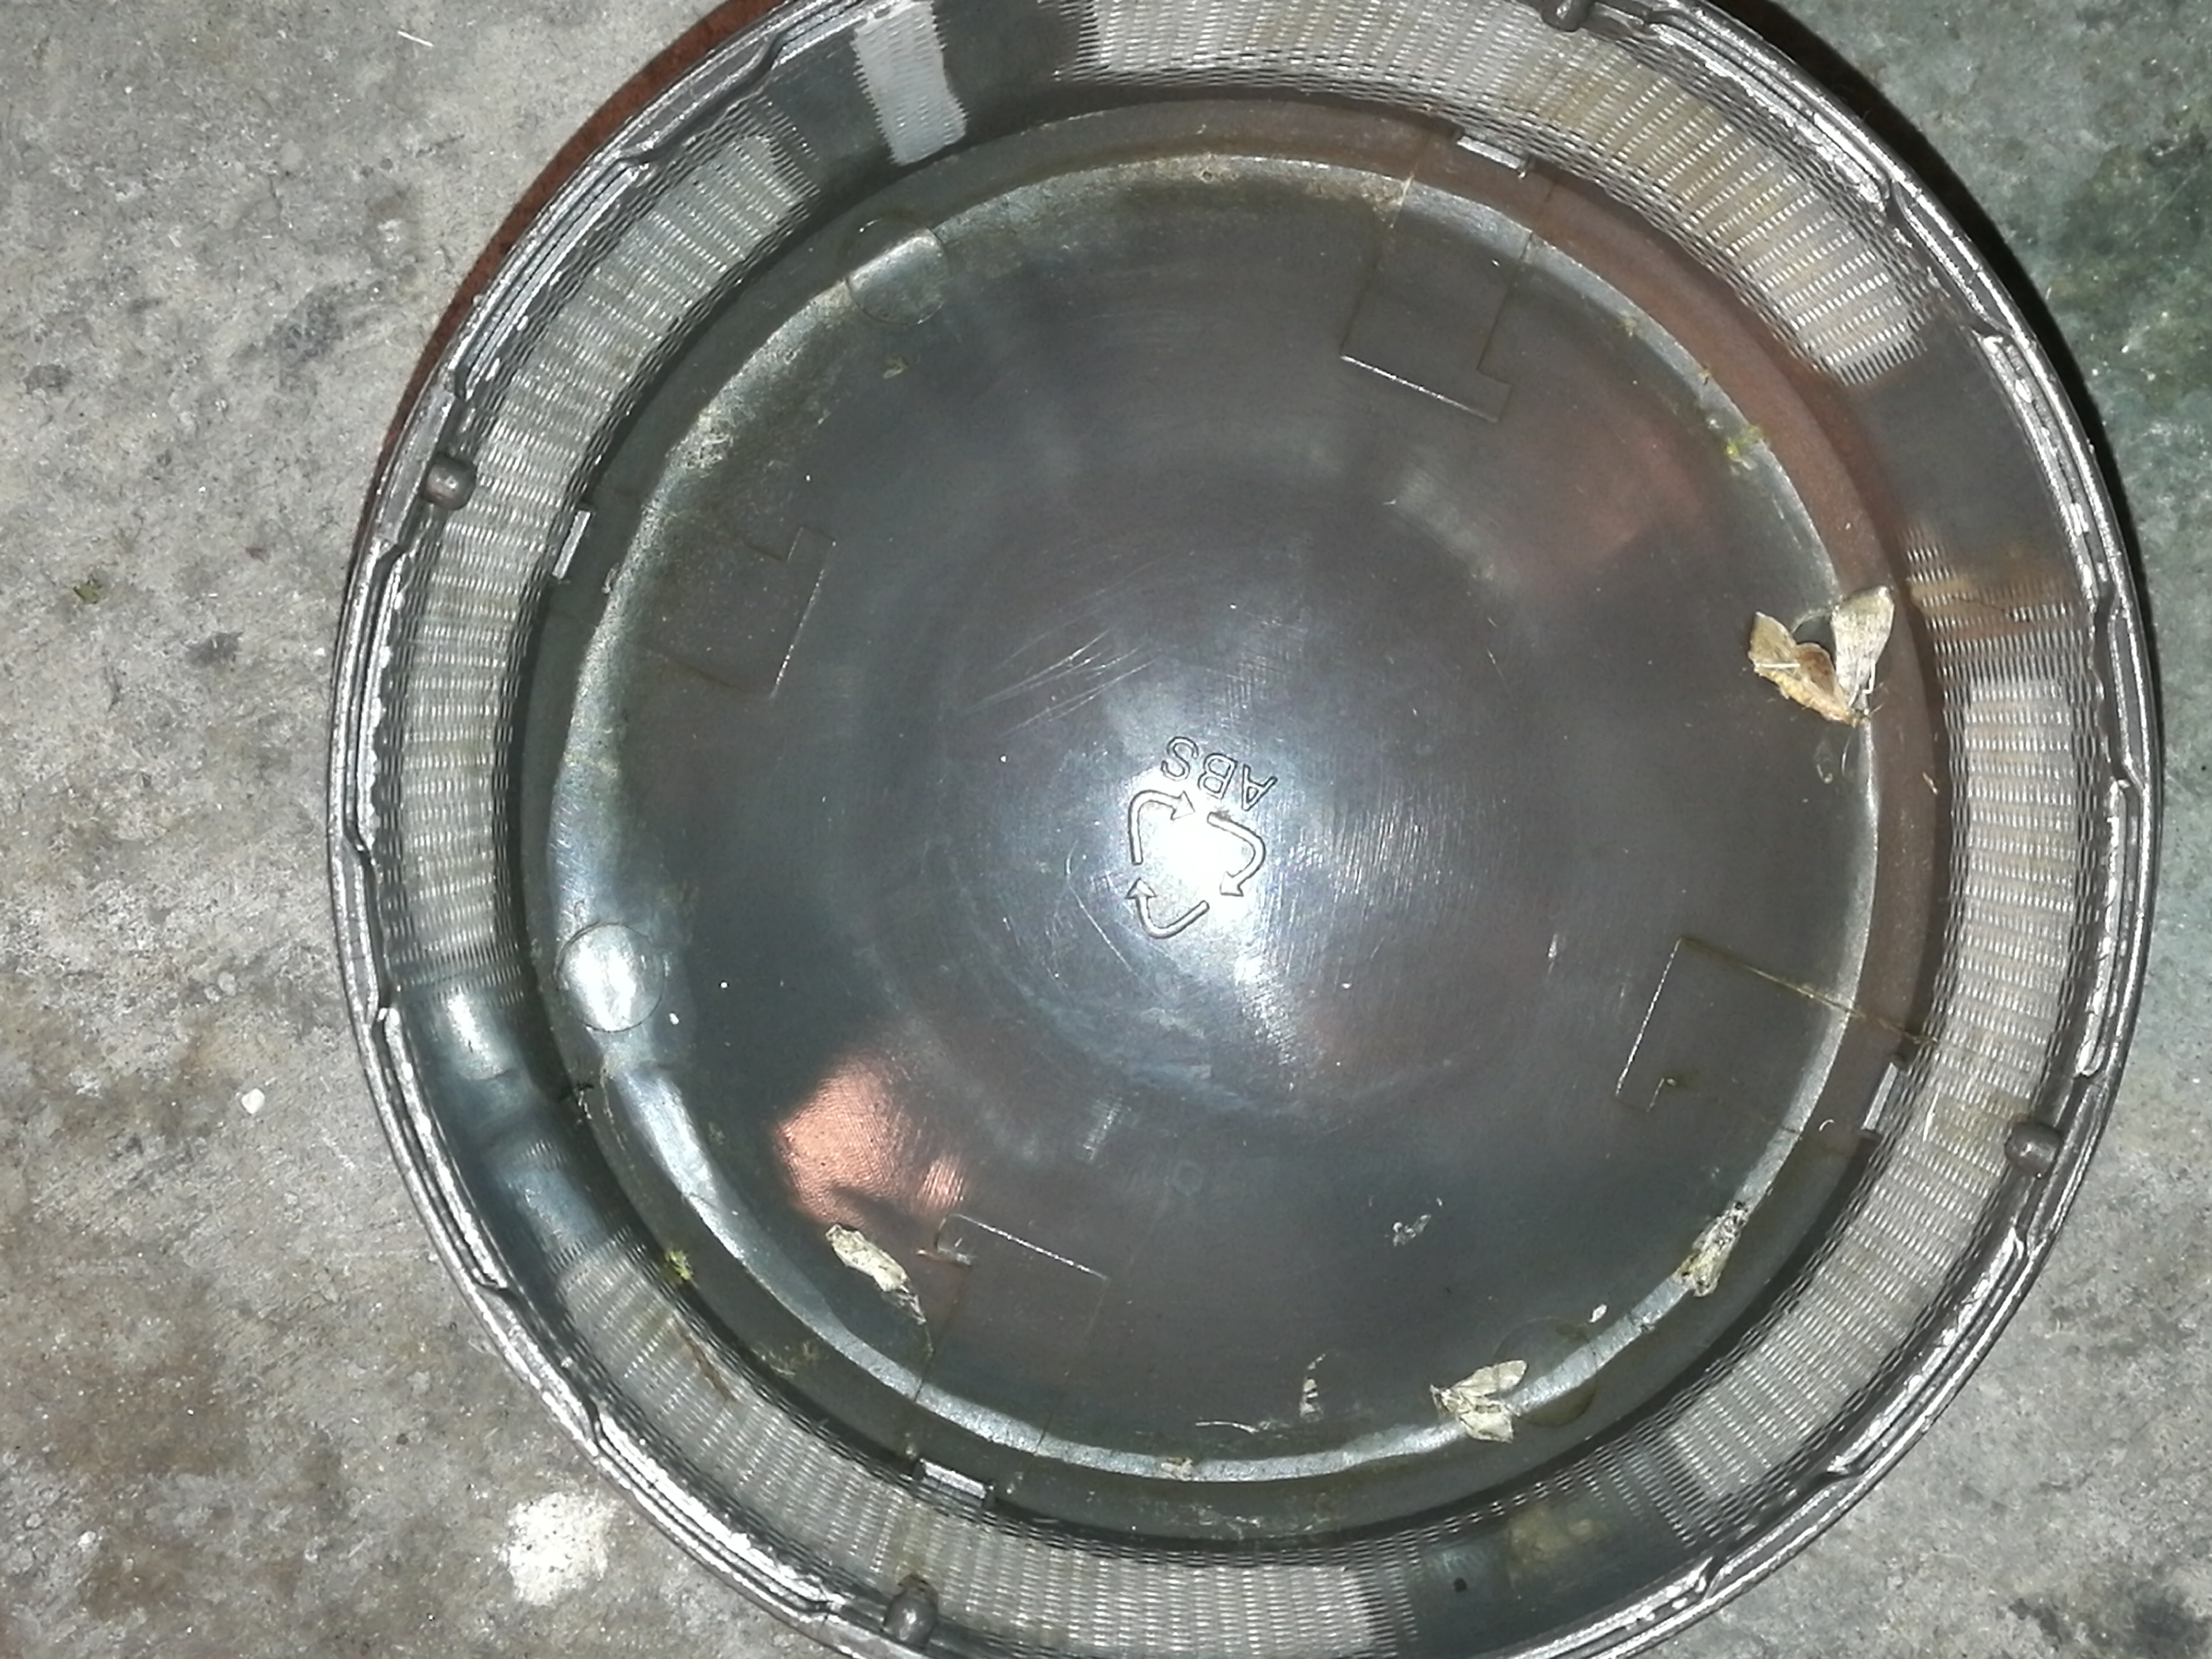mosquito: (1670, 1199, 1749, 1298), (827, 1223, 902, 1290)
moth: (1749, 587, 1895, 725), (1433, 1359, 1526, 1441)
